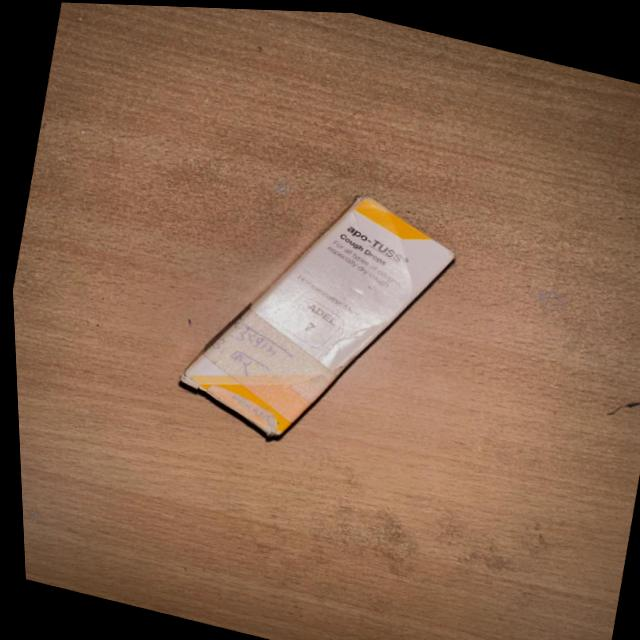medicine: (155, 176, 461, 451)
